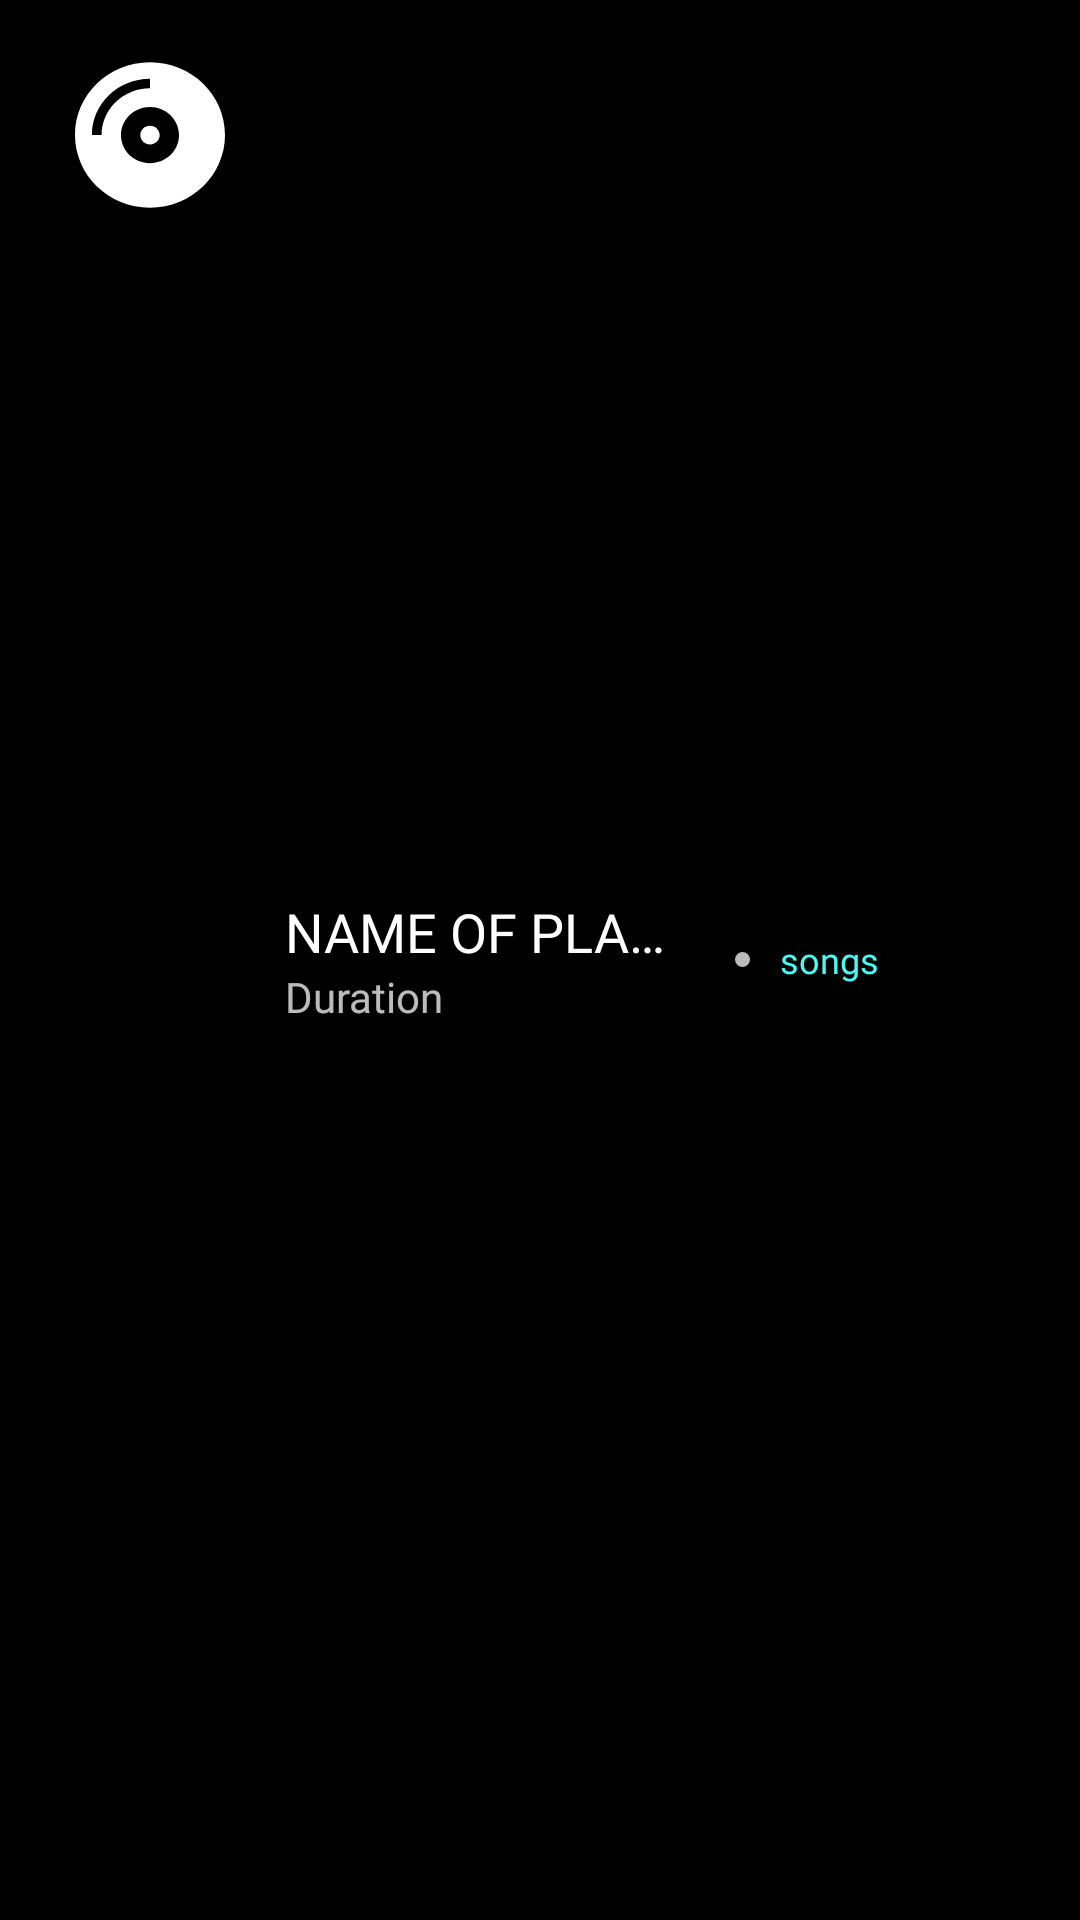

Icon click points for this 1080*1920 phone screenshot, format point (x, y):
compact disc: point (150, 135)
